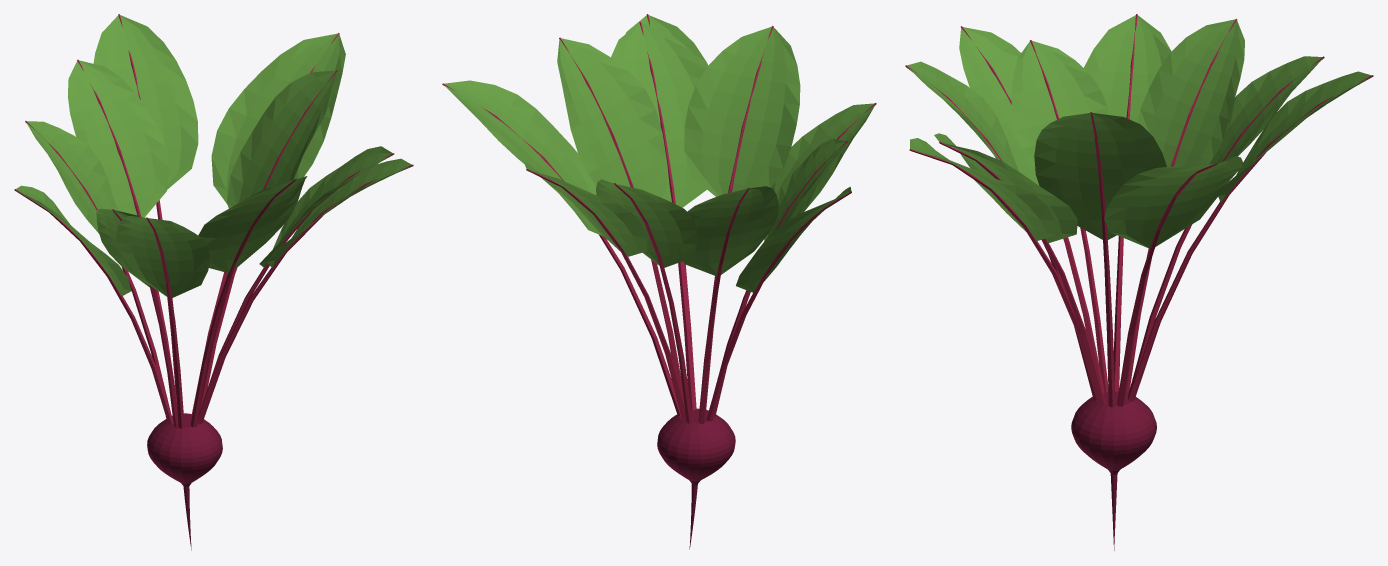
File: beetroot_harvest_v18.glb
3 renders of one model, left to right at view 1: azimuth 30°, elevation 25°; view 2: azimuth 150°, elevation 25°; view 3: azimuth 270°, elevation 25°, orthographic. The views are drawn at different scales.
Visible parts, largest first — view 1: plant; view 2: plant; view 3: plant.
Part boxes in pixels (x1,y1,x2,y2): plant: (14, 14, 413, 550); plant: (442, 14, 876, 549); plant: (905, 14, 1373, 550).
Size of the model in its own units: 0.3812 by 0.4614 by 0.3807.
Materials: 1 (1 with a texture image).
